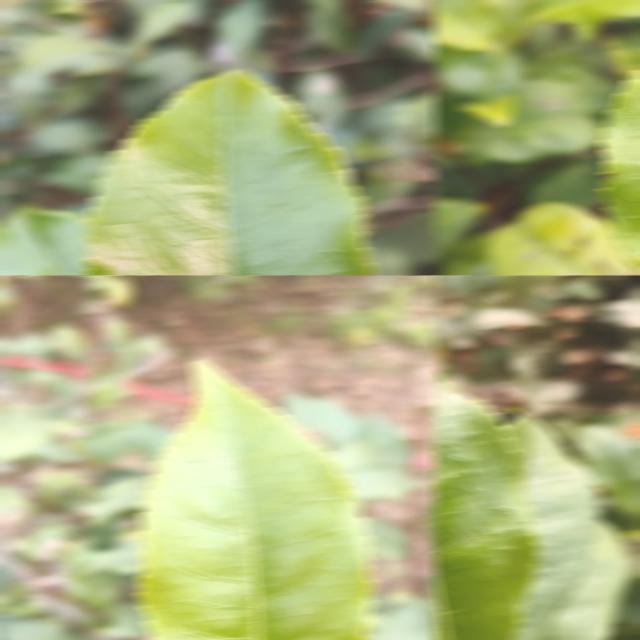Leaf: (138, 361, 374, 640), (84, 71, 375, 275), (432, 372, 541, 640), (505, 414, 600, 640), (464, 64, 619, 163), (534, 523, 631, 640), (487, 201, 639, 275), (574, 424, 640, 516), (432, 196, 489, 262), (432, 0, 499, 50), (0, 406, 55, 461), (365, 599, 438, 640), (0, 618, 87, 640)
